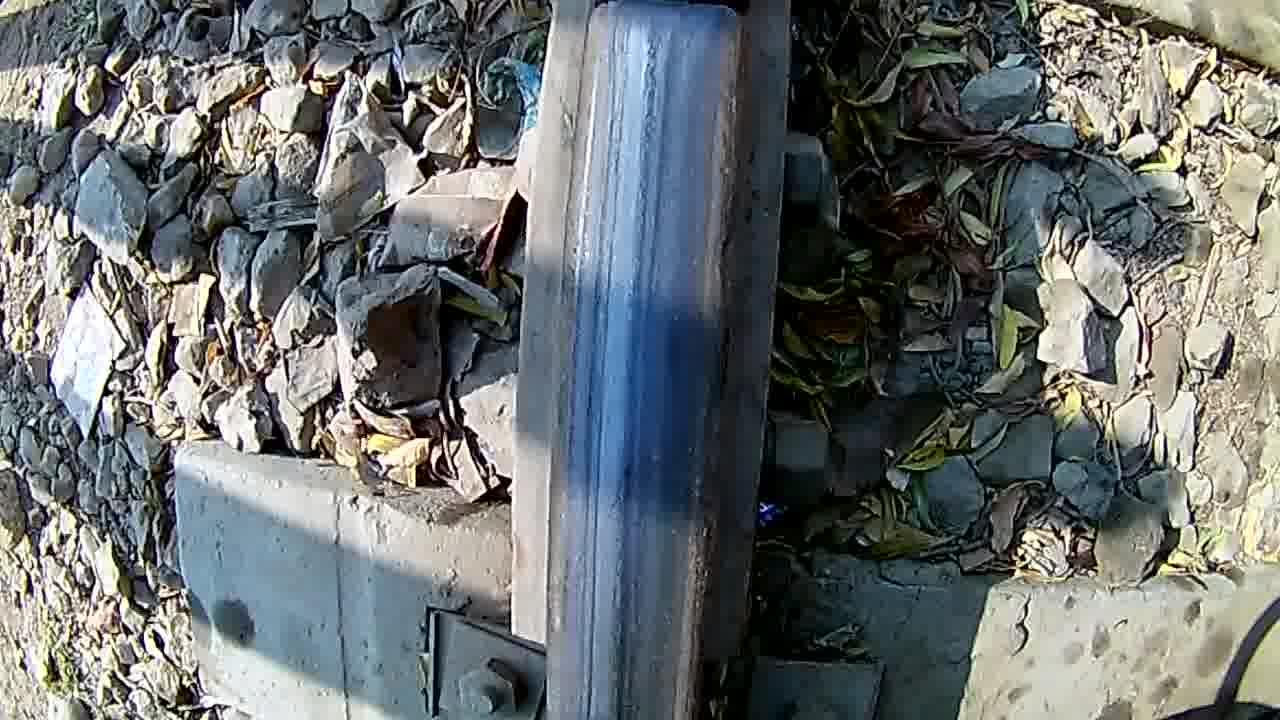clip_missing: (568, 42, 742, 720)
